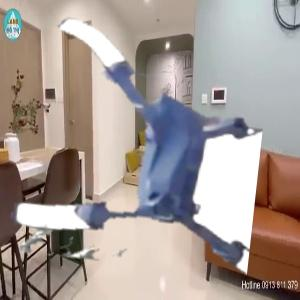drone: (9, 13, 263, 267)
